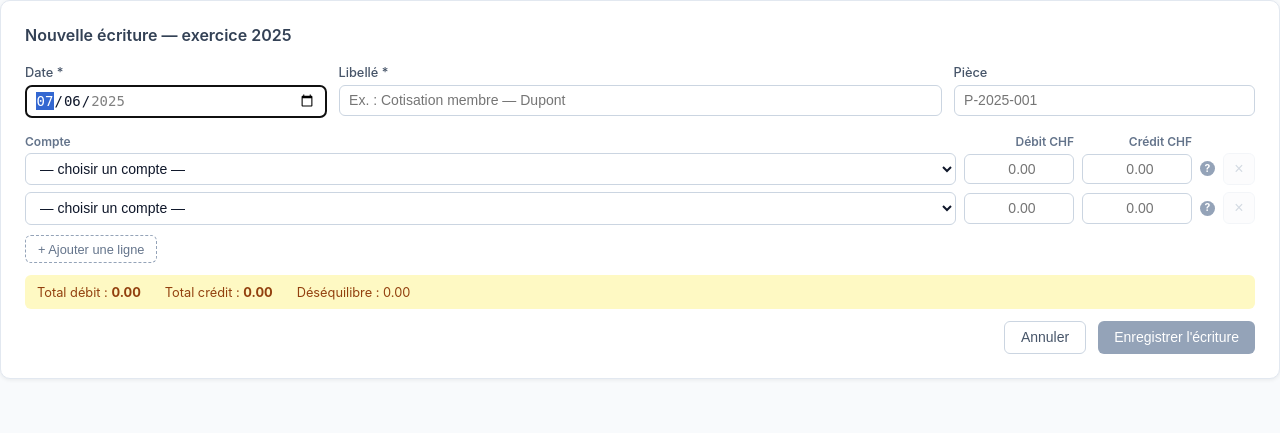
EntryForm — validation de date › affiche un avertissement pour une date avant le début de l'exercice
Type "2024-12-31" into the date field labelled "Date *" at (176, 101), box [25,85,326,118]
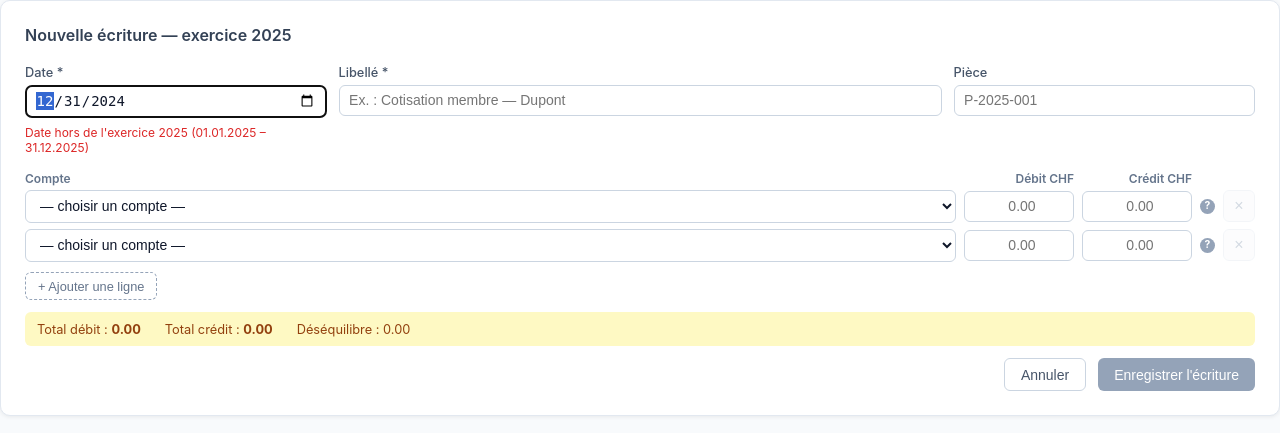
Check: the text "Date hors de l'exercice 2025 (01.01.2025 – 31.12.2025)" is shown, box [25,125,266,155]
